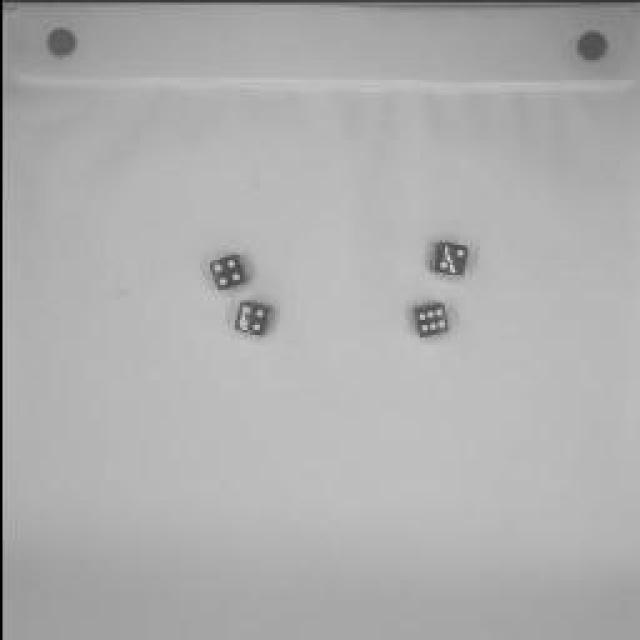dice_2: (421, 235, 474, 280)
dice_4: (228, 295, 278, 340), (204, 247, 248, 295)
dice_6: (404, 295, 454, 340)
